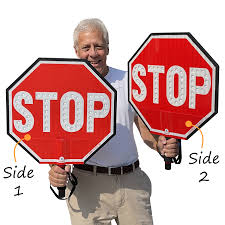SS: (7, 59, 116, 167), (127, 34, 220, 136)
